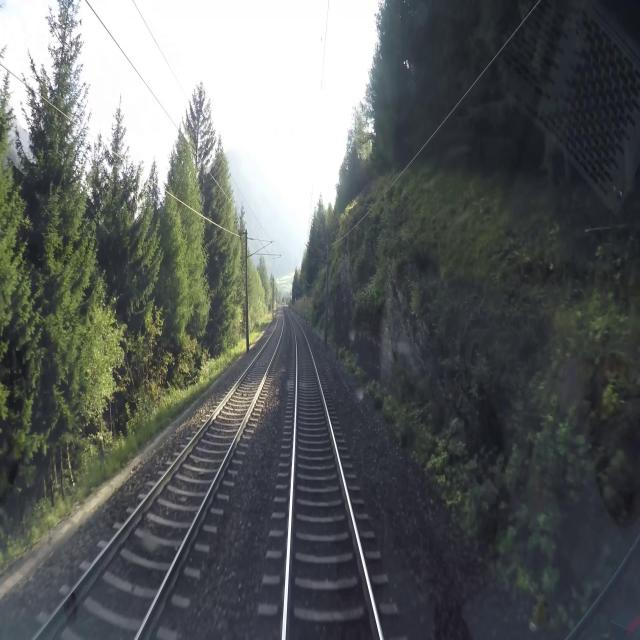rail-track: (38, 310, 281, 639), (287, 316, 379, 639)
